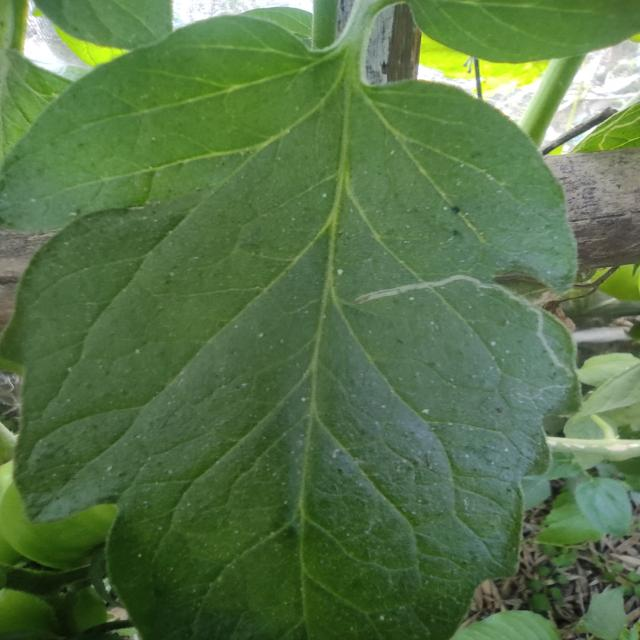Tuta absoluta: (354, 244, 587, 372)
